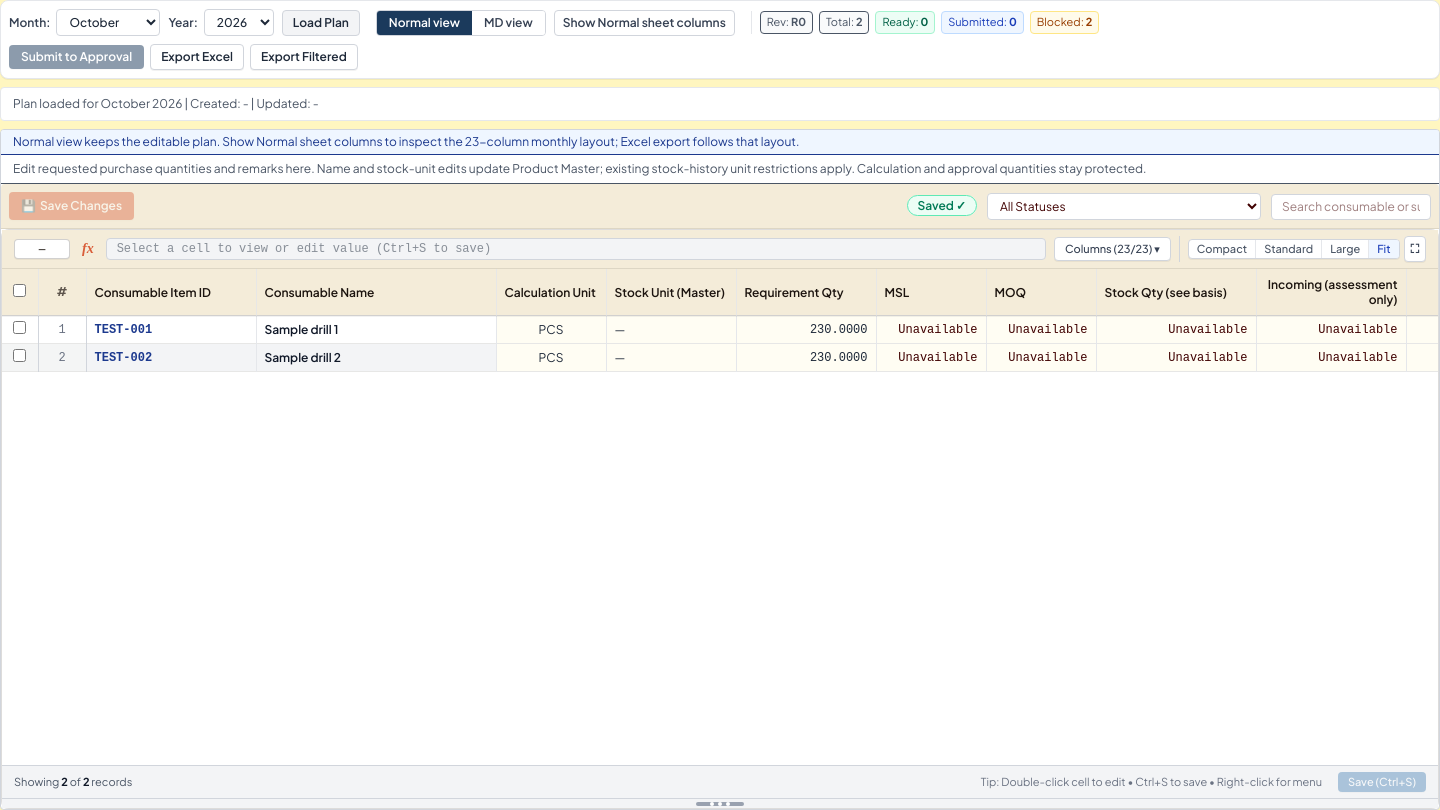
Test: authenticated FILTERED export downloads Excel with the exact row/filter scope
Check: the cell "TEST-001" is shown, box x1=86 y1=316 x2=256 y2=344
Type "Drill & tap" into the field named "Search records" at (1351, 206), box x1=1271 y1=194 x2=1431 y2=220
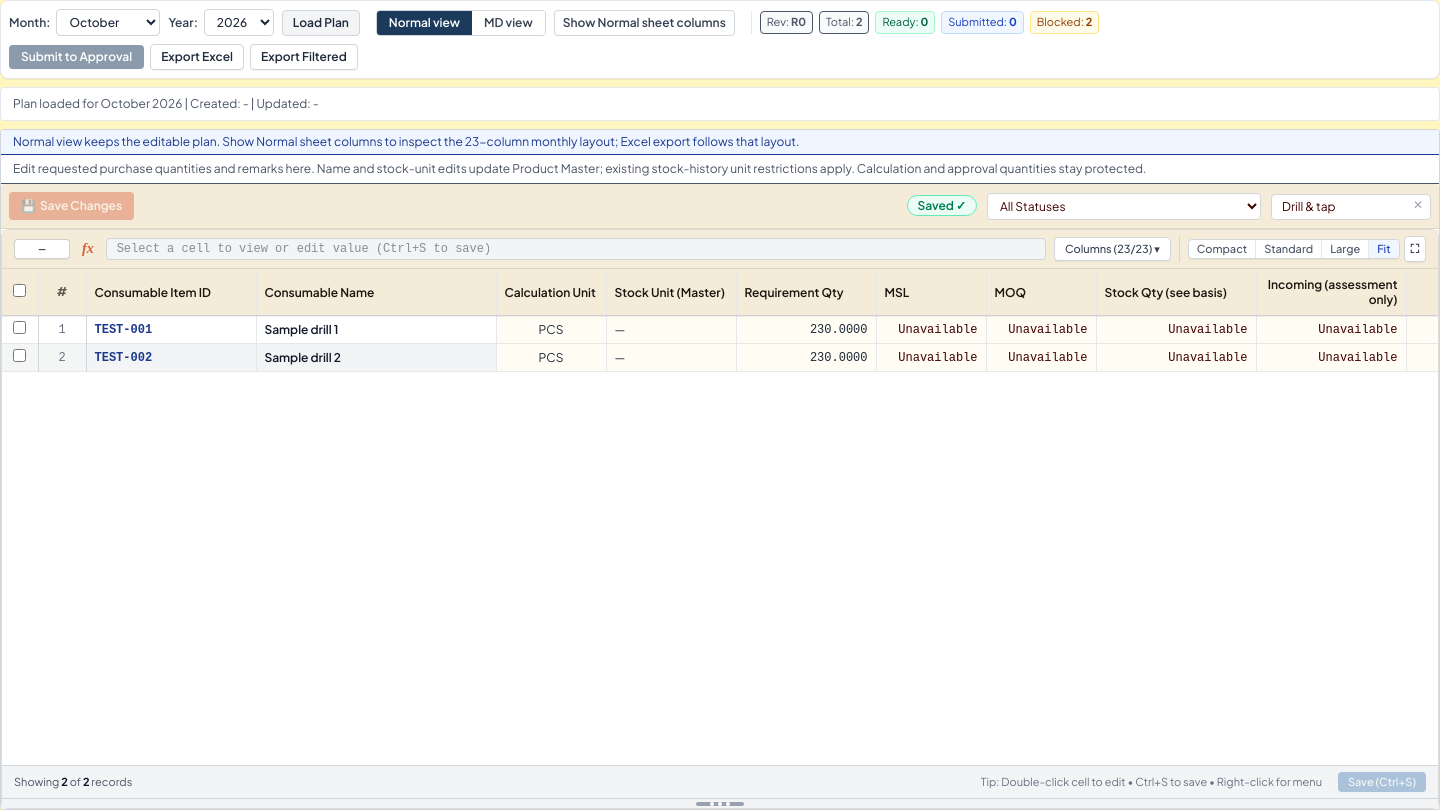
Select "Requirement Review Required" in the dropdown named "Status" at (1124, 206), box x1=987 y1=192 x2=1261 y2=220
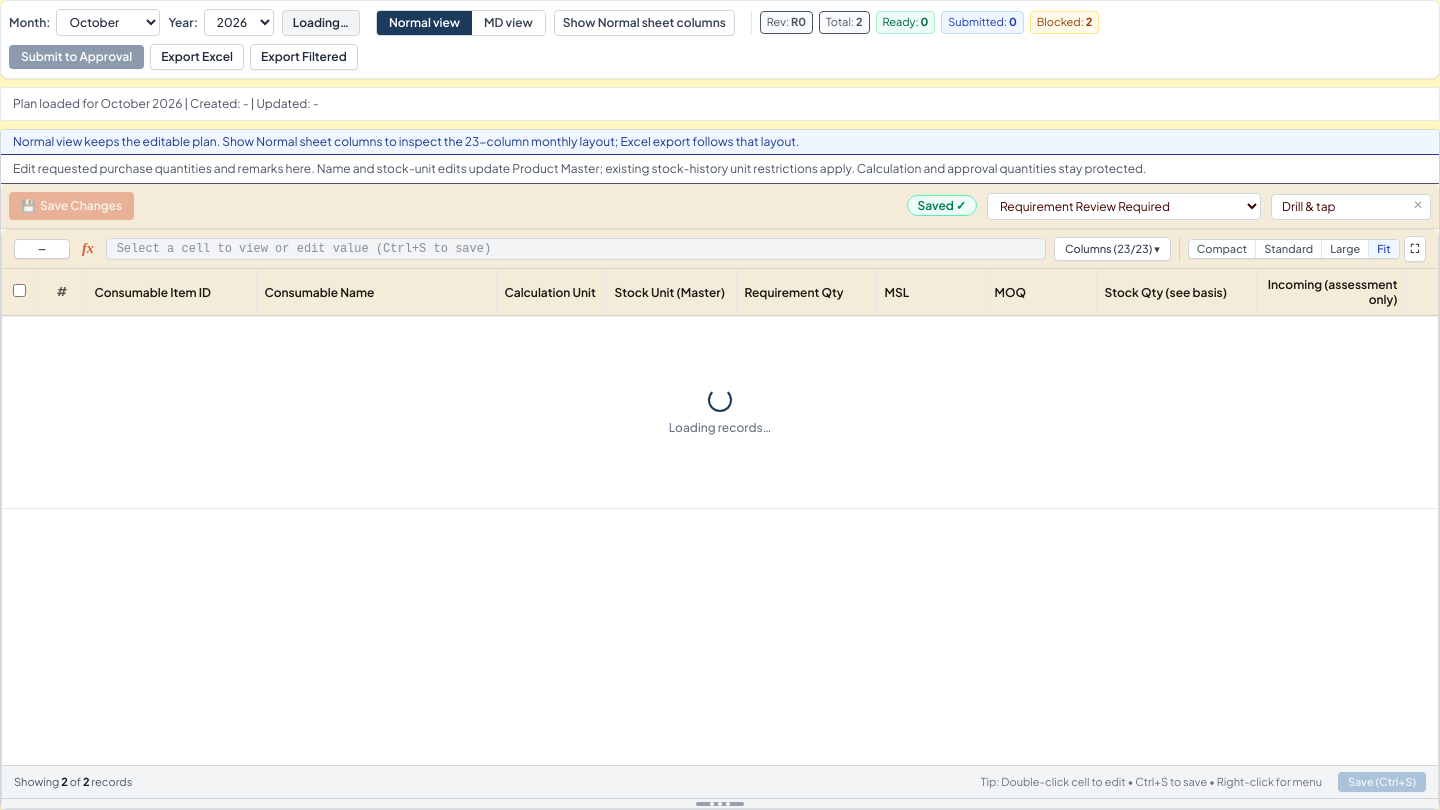
Click the button "Export Filtered" at (304, 57), box x1=250 y1=44 x2=358 y2=70
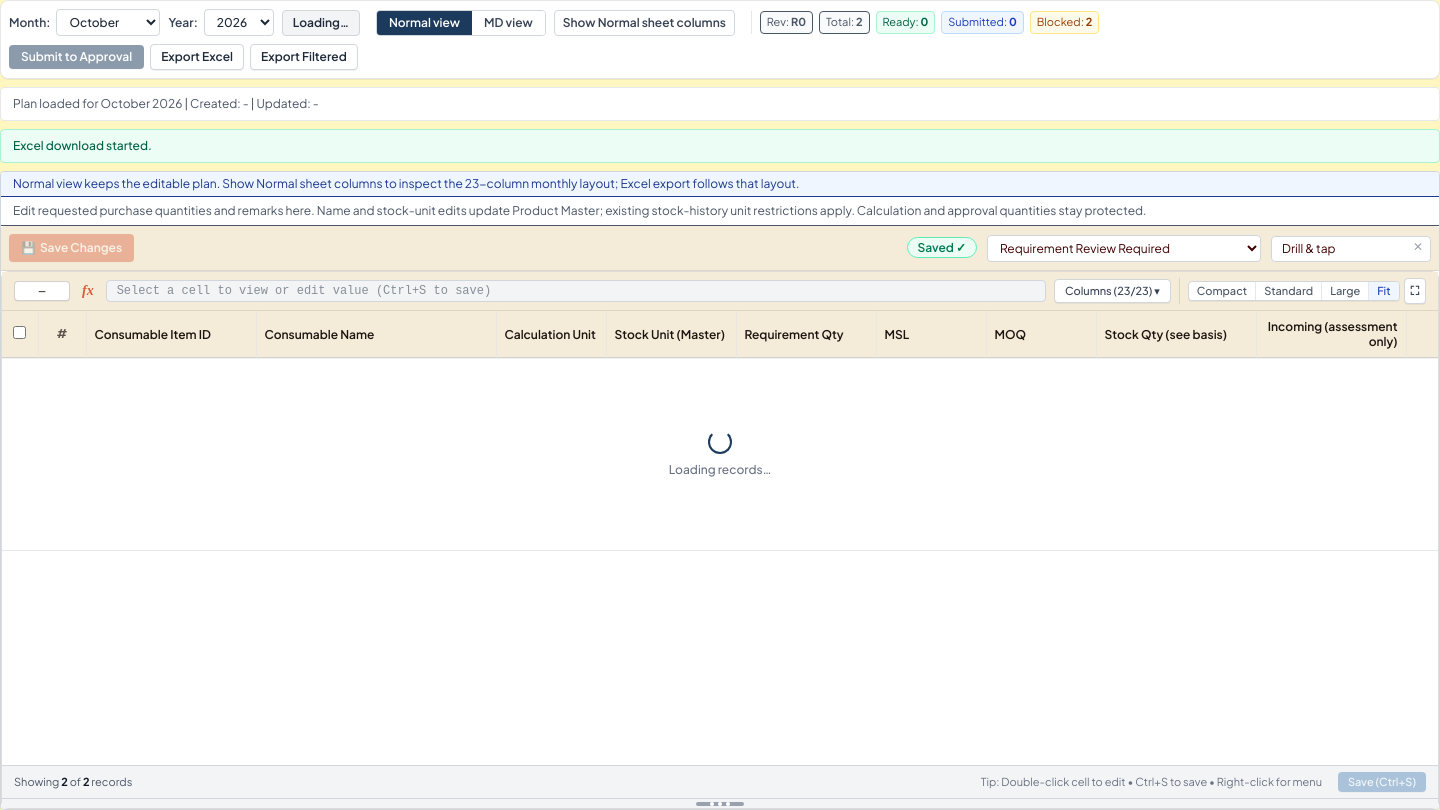
Check: the text "Excel download started." is shown, box x1=0 y1=129 x2=1439 y2=163
